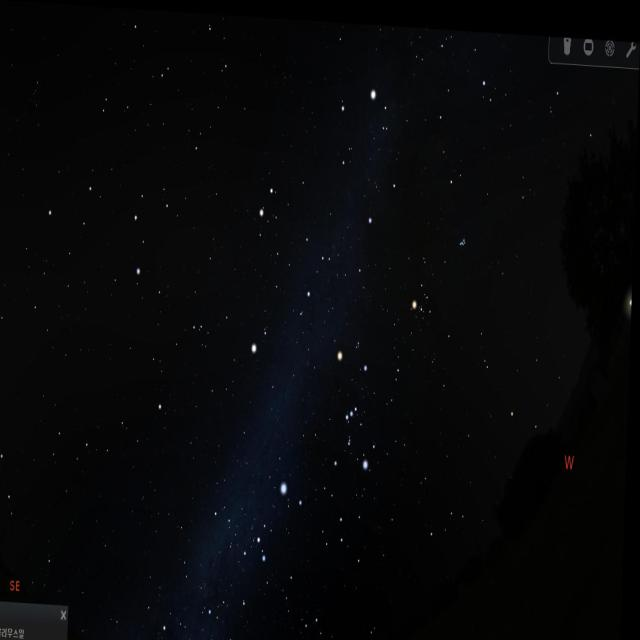canis_major: (257, 476, 313, 580)
canis_minor: (245, 306, 274, 362)
gemini: (249, 176, 355, 318)
leo: (44, 136, 192, 292)
orion: (332, 336, 381, 469)
pleiades: (454, 228, 475, 248)
taurus: (414, 183, 494, 342)
